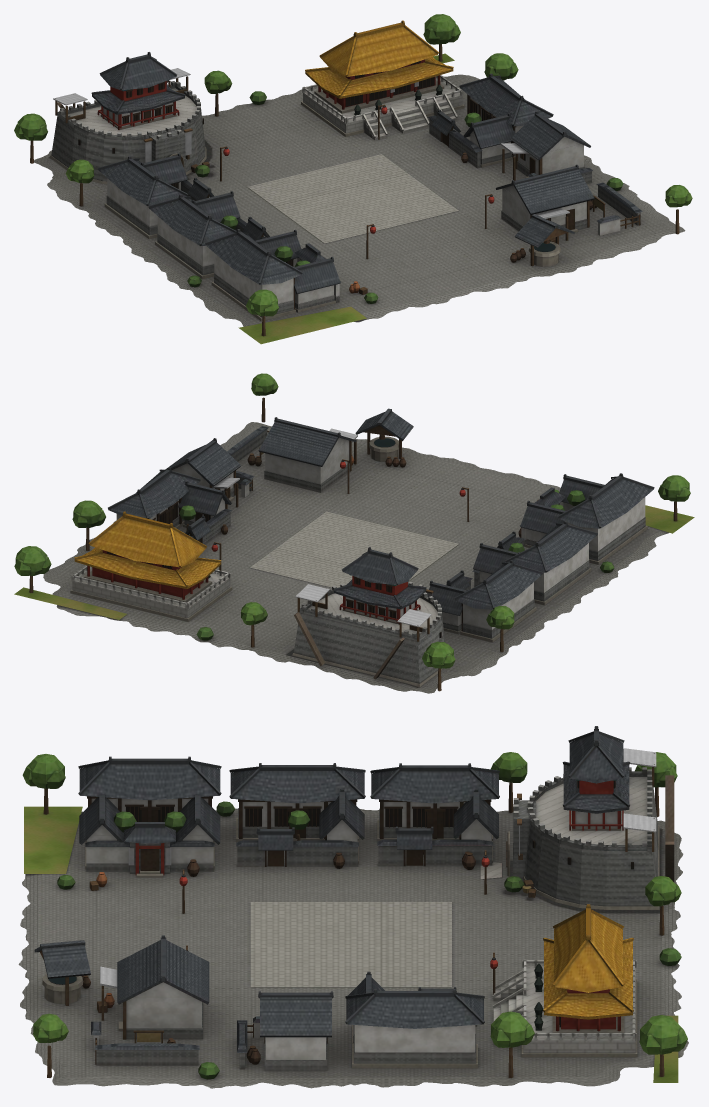
File: gunpowder-town-small-a-sinic-e23af13c.glb
3 views of the same model, one above another, from view 1: azimuth 30°, elevation 25°; view 2: azimuth 150°, elevation 25°; view 3: azimuth 270°, elevation 25° (orthographic). The views are drawn at different scales.
Visible parts, largest first — view 1: LOD0; view 2: LOD0; view 3: LOD0.
Part boxes in pixels (<box>): LOD0: <box>14,14,692,344</box>; LOD0: <box>14,373,694,693</box>; LOD0: <box>18,726,688,1088</box>.
Size of what is drawn, in the model's own units: 4.02 by 0.9228 by 4.06.
Materials: 3 (3 with a texture image).
